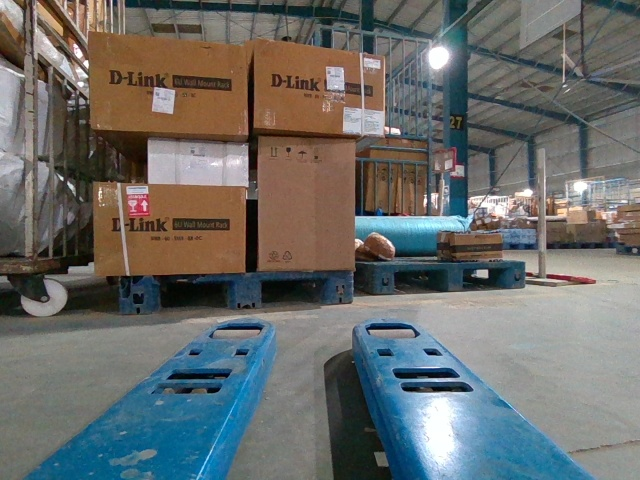block: (120, 275, 162, 316), (229, 270, 261, 310), (326, 270, 356, 306), (375, 258, 396, 294), (505, 260, 525, 286), (446, 265, 463, 291)
front: (122, 270, 354, 313), (375, 261, 527, 290)
hole pallet: (159, 281, 231, 311), (260, 278, 321, 305), (394, 269, 448, 291), (465, 267, 506, 288)
